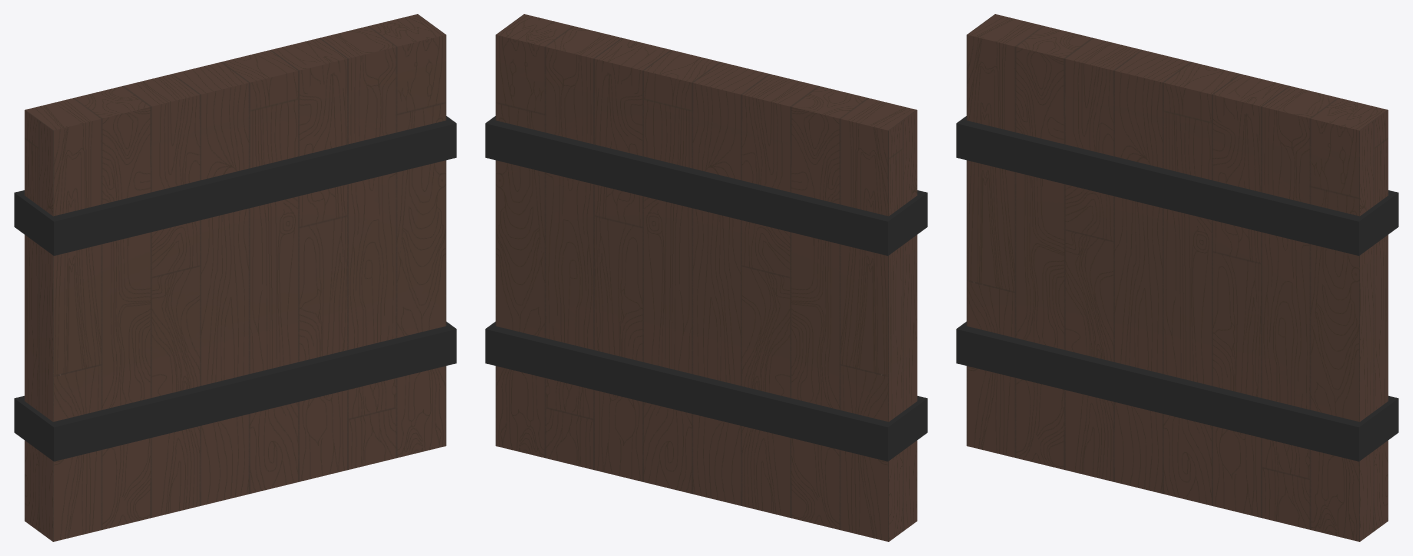
The model's file is gate.gltf.
3 views of the same model, side by side, from view 1: azimuth 30°, elevation 25°; view 2: azimuth 150°, elevation 25°; view 3: azimuth 330°, elevation 25° (orthographic).
Visible parts, largest first — view 1: Mesh; view 2: Mesh; view 3: Mesh.
Boxes of the visible parts, <box> form: Mesh: <box>14,14,456,541</box>; Mesh: <box>485,14,927,541</box>; Mesh: <box>956,14,1398,541</box>.
Size of what is drawn, in the model's own units: 24.6 by 24 by 4.2.
Materials: 2 (1 with a texture image).
